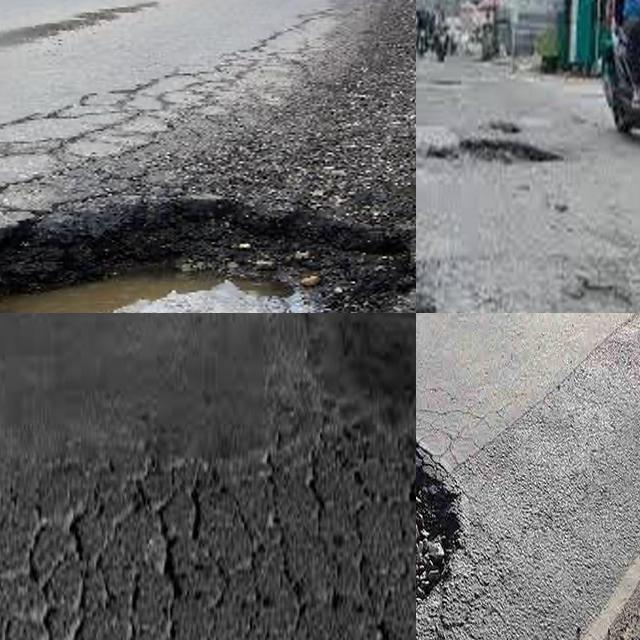Lubang: (0, 201, 392, 313), (435, 141, 558, 162)
Retak Buaya: (0, 402, 416, 640)
